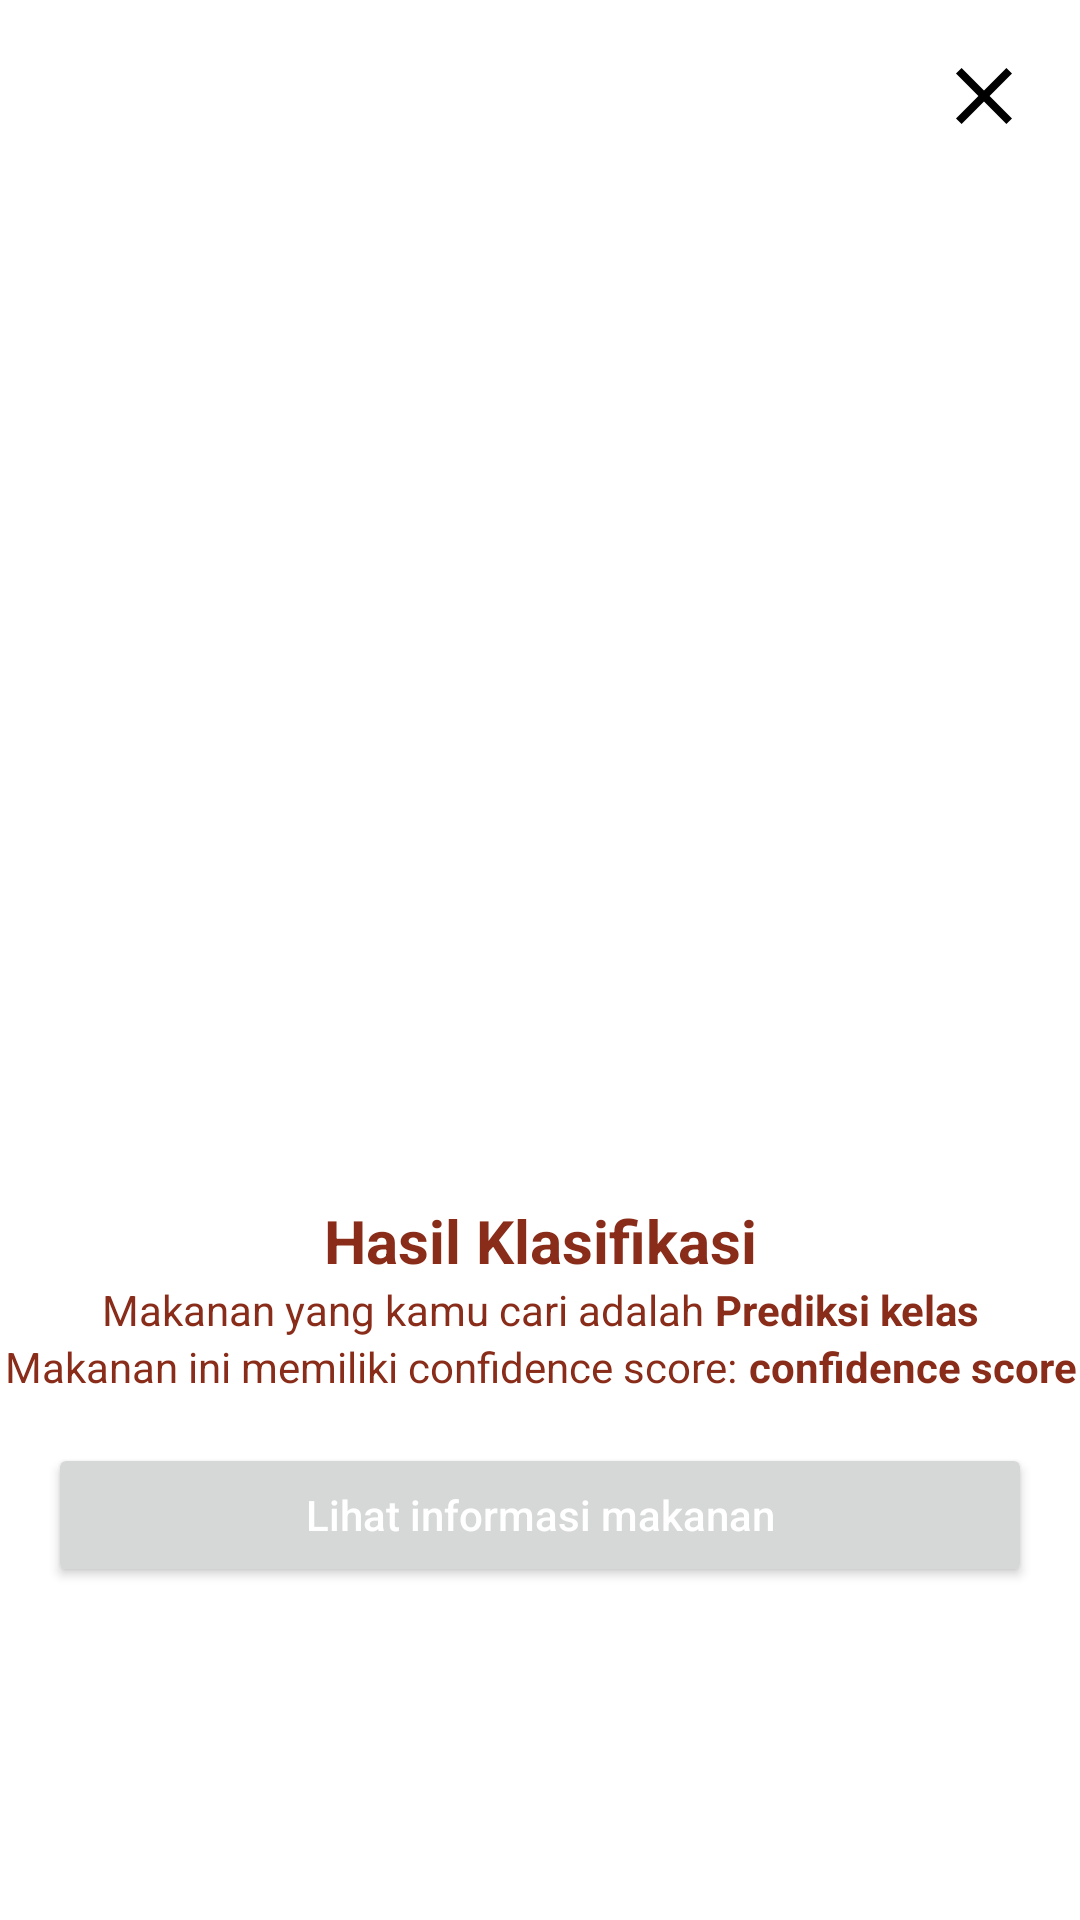

Icon click points for this 1080*1920 phone screenshot, format (x,y):
close: (984,96)
